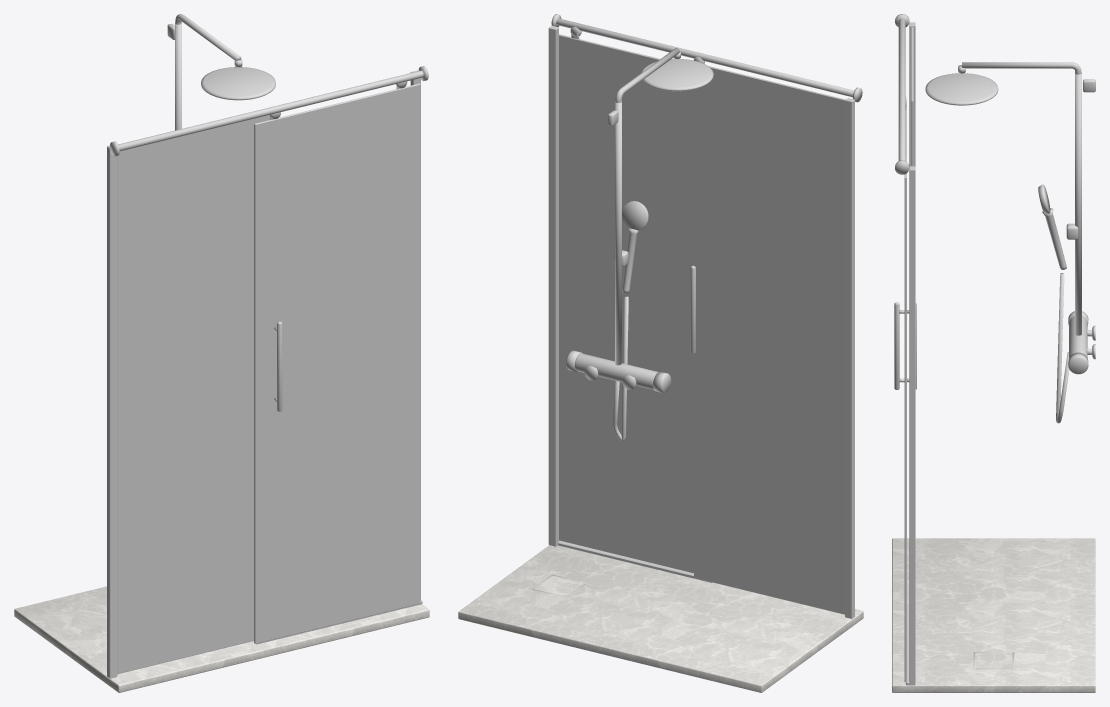
Rendered from ducha_corredera_70x120.glb.
3 views of the same model, side by side, from view 1: azimuth 30°, elevation 25°; view 2: azimuth 150°, elevation 25°; view 3: azimuth 270°, elevation 25° (orthographic). The views are drawn at different scales.
Parts seen in each view (by area): view 1: ducha_corredera_70x120; view 2: ducha_corredera_70x120; view 3: ducha_corredera_70x120.
Part boxes in pixels (x1=…): ducha_corredera_70x120: x1=14, y1=14, x2=429, y2=692; ducha_corredera_70x120: x1=458, y1=14, x2=863, y2=692; ducha_corredera_70x120: x1=892, y1=14, x2=1095, y2=692.
Size of the model in its own units: 1.2 by 2.11 by 0.7005.
Materials: 3 (1 with a texture image).
